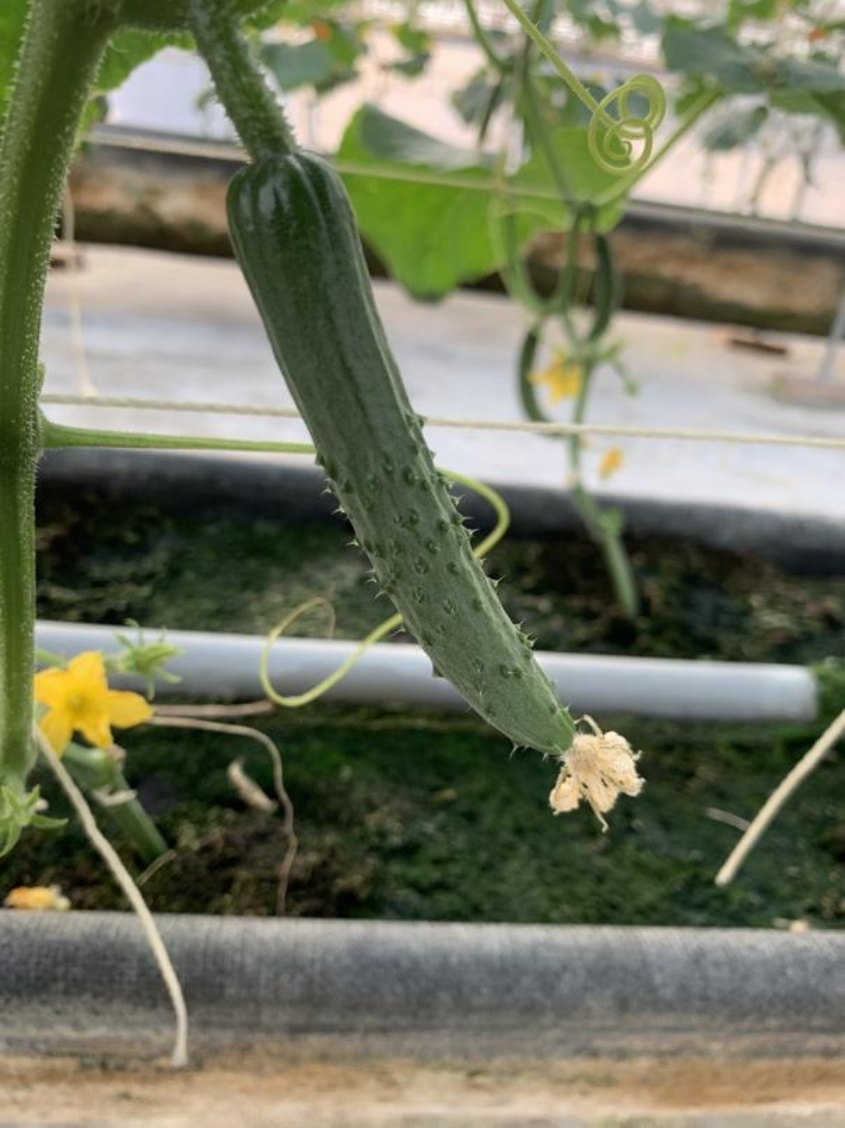growth: (171, 89, 652, 835)
